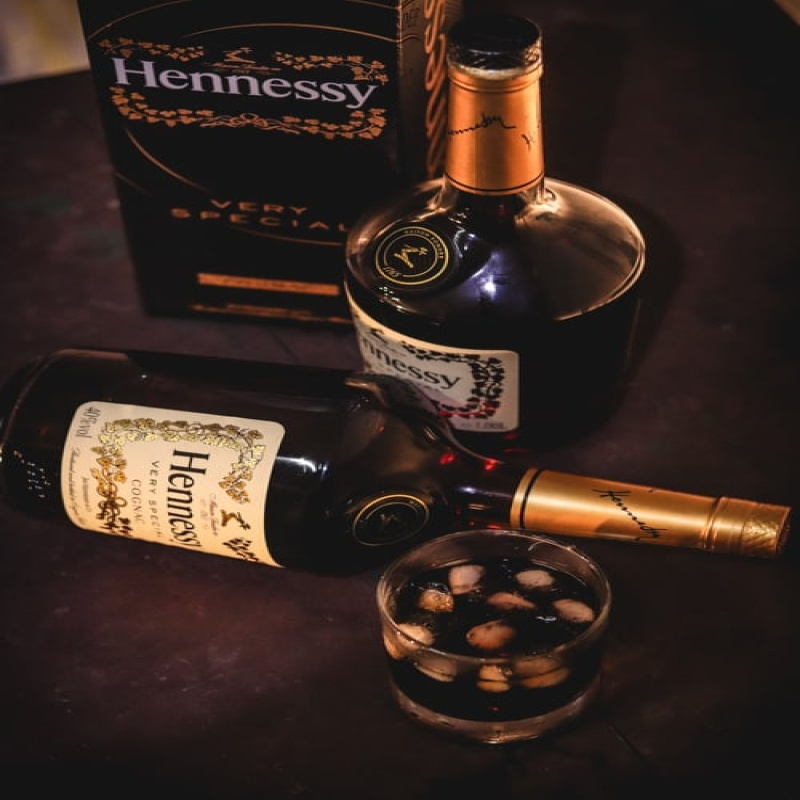wine: (4, 349, 794, 605), (355, 13, 655, 430)
